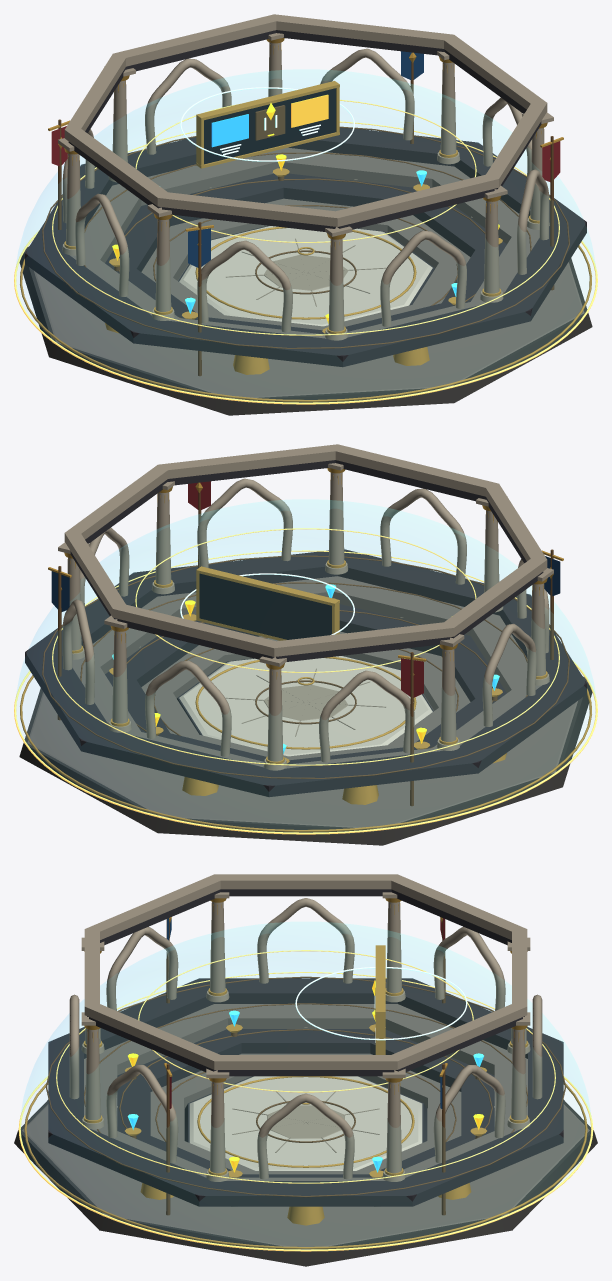
Rendered from duel_coliseum.glb.
3 views of the same model, one above another, from view 1: azimuth 30°, elevation 25°; view 2: azimuth 150°, elevation 25°; view 3: azimuth 270°, elevation 25° (orthographic).
Parts seen in each view (by area): view 1: duel_coliseum_seating_tier_04, duel_coliseum_arena_floor, duel_coliseum_arcade_crown, duel_coliseum_seating_tier_03, duel_coliseum_force_dome, duel_coliseum_fighting_floor, duel_coliseum_seating_tier_02, duel_coliseum_octagonal_foundation, duel_coliseum_seating_tier_01, duel_coliseum_scoreboard_backplate, duel_coliseum_arena_boundary_inlay, duel_coliseum_force_dome_equator (+39 smaller); view 2: duel_coliseum_seating_tier_04, duel_coliseum_arena_floor, duel_coliseum_arcade_crown, duel_coliseum_force_dome, duel_coliseum_fighting_floor, duel_coliseum_seating_tier_03, duel_coliseum_octagonal_foundation, duel_coliseum_seating_tier_02, duel_coliseum_seating_tier_01, duel_coliseum_scoreboard_backplate, duel_coliseum_arena_boundary_inlay, duel_coliseum_force_dome_equator (+33 smaller); view 3: duel_coliseum_seating_tier_04, duel_coliseum_arena_floor, duel_coliseum_arcade_crown, duel_coliseum_force_dome, duel_coliseum_fighting_floor, duel_coliseum_seating_tier_03, duel_coliseum_seating_tier_02, duel_coliseum_octagonal_foundation, duel_coliseum_seating_tier_01, duel_coliseum_arena_boundary_inlay, duel_coliseum_force_dome_equator, duel_coliseum_archway_08 (+32 smaller).
Part boxes in pixels (x1,y1,x2,y2): duel_coliseum_seating_tier_04: (25, 127, 586, 367); duel_coliseum_arena_floor: (34, 262, 584, 398); duel_coliseum_arcade_crown: (64, 14, 547, 226); duel_coliseum_seating_tier_03: (70, 147, 539, 338); duel_coliseum_force_dome: (16, 70, 595, 269); duel_coliseum_fighting_floor: (179, 226, 432, 326); duel_coliseum_seating_tier_02: (105, 173, 506, 334); duel_coliseum_octagonal_foundation: (19, 246, 592, 415); duel_coliseum_seating_tier_01: (141, 198, 470, 330); duel_coliseum_scoreboard_backplate: (204, 88, 335, 164); duel_coliseum_arena_boundary_inlay: (20, 245, 591, 402); duel_coliseum_force_dome_equator: (14, 230, 597, 404); duel_coliseum_seating_tier_04: (25, 549, 586, 797); duel_coliseum_arena_floor: (27, 692, 577, 828); duel_coliseum_arcade_crown: (64, 444, 547, 656); duel_coliseum_force_dome: (16, 500, 595, 699); duel_coliseum_fighting_floor: (179, 656, 432, 756); duel_coliseum_seating_tier_03: (72, 576, 541, 768); duel_coliseum_octagonal_foundation: (19, 676, 592, 845); duel_coliseum_seating_tier_02: (105, 604, 506, 764); duel_coliseum_seating_tier_01: (141, 631, 470, 760); duel_coliseum_scoreboard_backplate: (199, 573, 331, 639); duel_coliseum_arena_boundary_inlay: (20, 675, 591, 832); duel_coliseum_force_dome_equator: (14, 660, 597, 834); duel_coliseum_seating_tier_04: (48, 978, 563, 1206); duel_coliseum_arena_floor: (22, 1104, 589, 1249); duel_coliseum_arcade_crown: (84, 874, 527, 1069); duel_coliseum_force_dome: (21, 922, 590, 1115); duel_coliseum_fighting_floor: (189, 1076, 422, 1170); duel_coliseum_seating_tier_03: (84, 1004, 527, 1180); duel_coliseum_seating_tier_02: (117, 1029, 494, 1177); duel_coliseum_octagonal_foundation: (14, 1100, 597, 1266); duel_coliseum_seating_tier_01: (150, 1053, 461, 1174); duel_coliseum_arena_boundary_inlay: (24, 1083, 587, 1249); duel_coliseum_force_dome_equator: (18, 1076, 593, 1251); duel_coliseum_archway_08: (257, 1093, 354, 1179).
Bounding box in the file's own units: 35.6 × 12.34 × 35.6.
